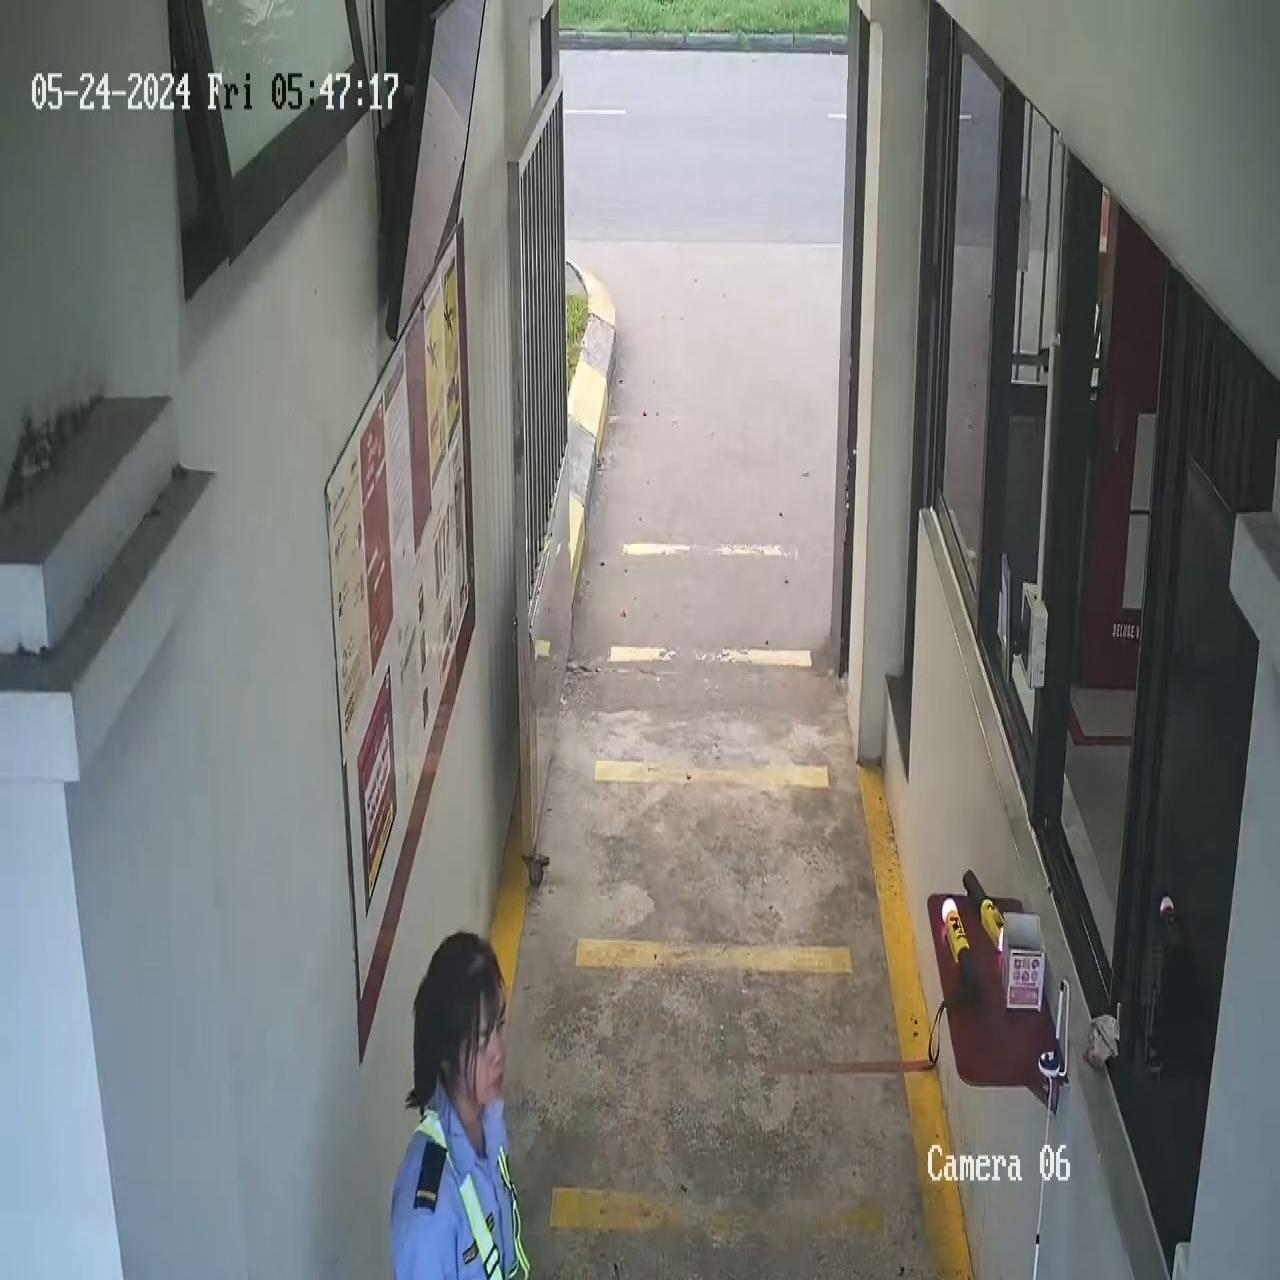breathalyzer: (931, 887, 983, 1010), (962, 869, 1012, 949)
guard: (388, 927, 532, 1276)
